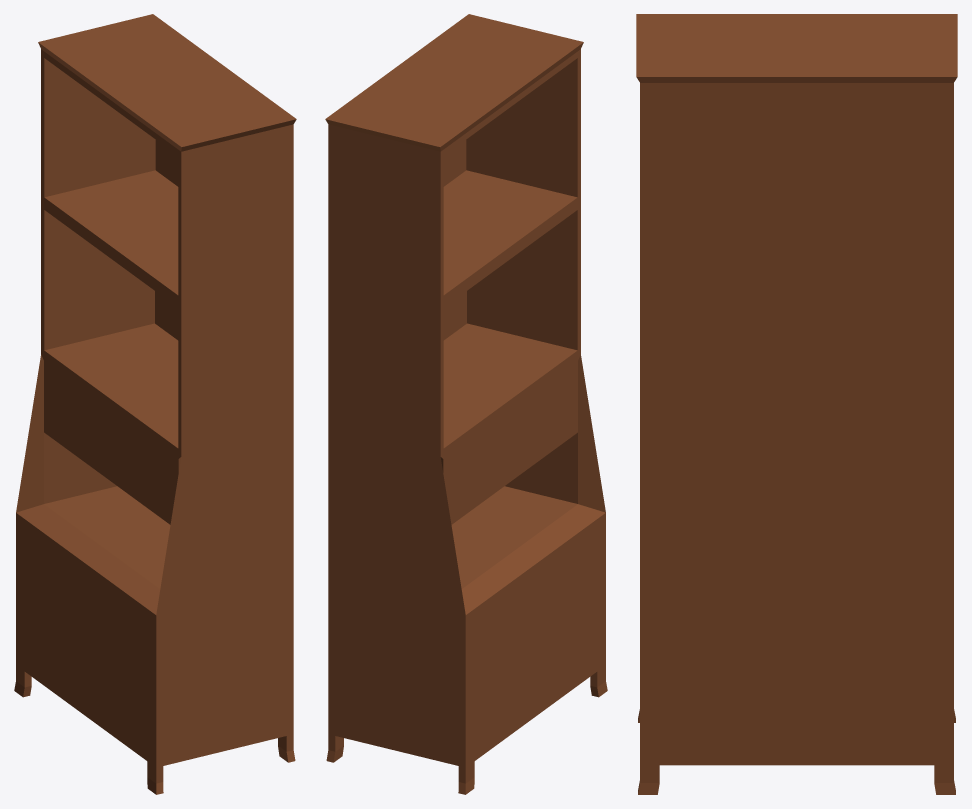
Rendered from bookcasewood01.gltf.
The picture shows the model from 3 angles, left to right: view 1: azimuth 30°, elevation 25°; view 2: azimuth 150°, elevation 25°; view 3: azimuth 270°, elevation 25°; orthographic projection. The views are drawn at different scales.
Visible parts, largest first — view 1: Cube.001; view 2: Cube.001; view 3: Cube.001.
Part boxes in pixels (x1,y1,x2,y2): Cube.001: (14, 14, 296, 794); Cube.001: (325, 14, 607, 794); Cube.001: (636, 14, 957, 794).
Bounding box in the file's own units: 0.5024 × 2.21 × 0.8954.
Materials: 1 (1 with a texture image).
